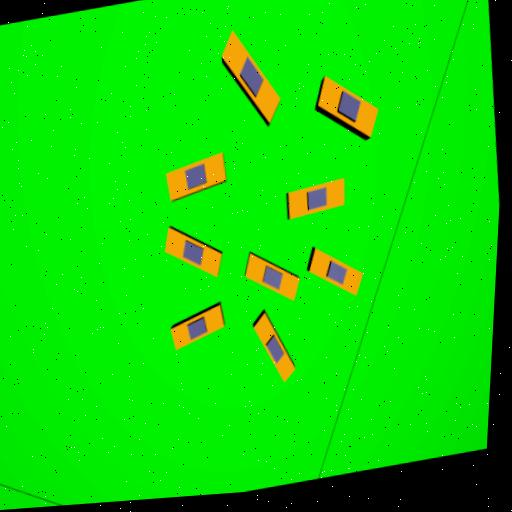objects: (212, 29, 289, 125), (310, 76, 386, 138), (156, 225, 229, 280), (160, 150, 232, 202), (249, 312, 298, 384), (239, 252, 305, 301), (304, 248, 368, 297), (165, 304, 229, 351), (282, 177, 351, 220)
